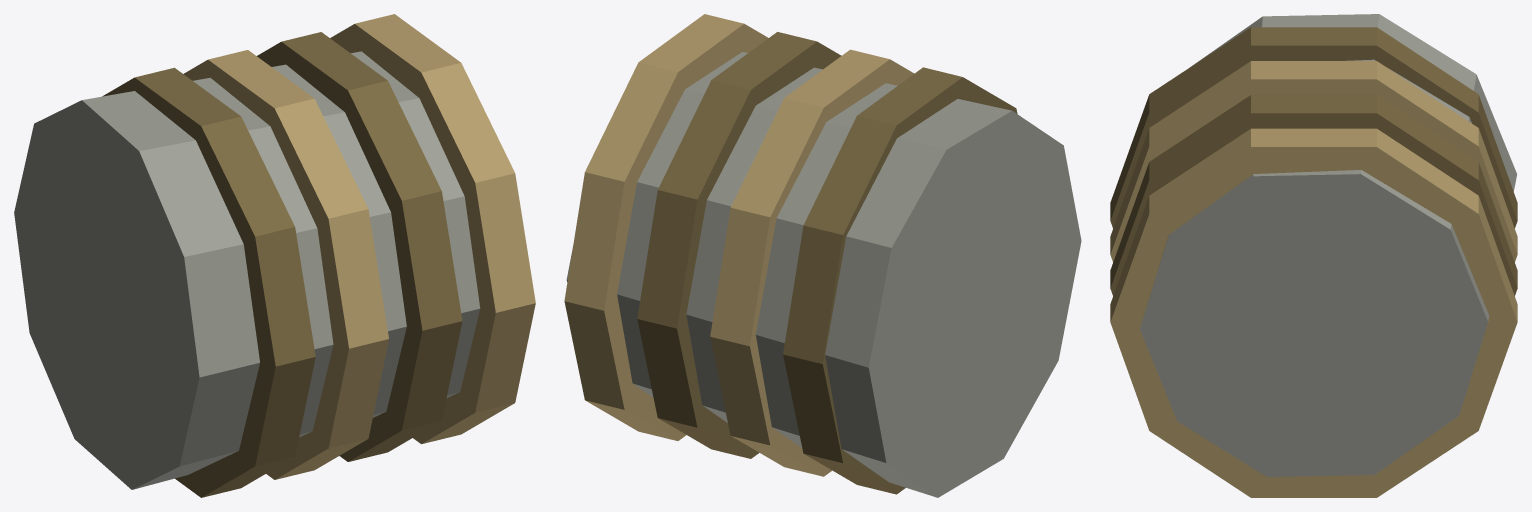
The model's file is stone_giant_bracer_l.glb.
3 views of the same model, side by side, from view 1: azimuth 30°, elevation 25°; view 2: azimuth 150°, elevation 25°; view 3: azimuth 270°, elevation 25° (orthographic). The views are drawn at different scales.
Parts seen in each view (by area): view 1: stone_giant_bracer_l; view 2: stone_giant_bracer_l; view 3: stone_giant_bracer_l.
Part boxes in pixels (x1,y1,x2,y2): stone_giant_bracer_l: (14, 14, 535, 497); stone_giant_bracer_l: (564, 14, 1081, 497); stone_giant_bracer_l: (1110, 14, 1517, 497).
Bounding box in the file's own units: 0.2504 × 0.2663 × 0.28.
